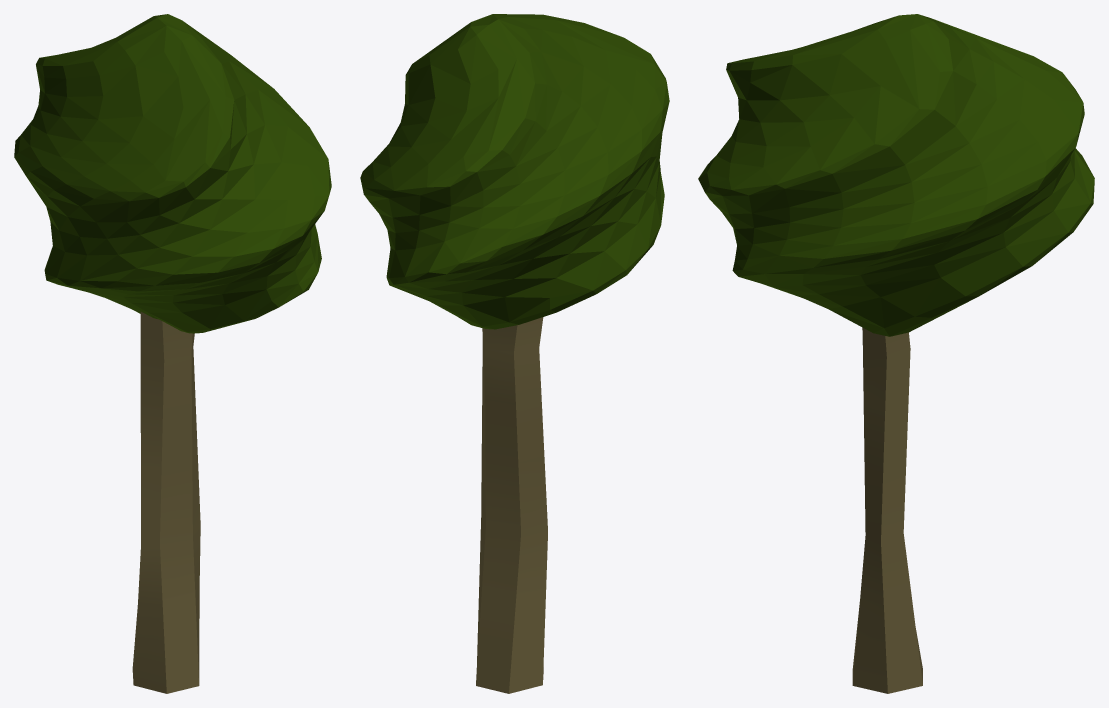
Rendered from tree_4.fbx.
3 views of the same model, side by side, from view 1: azimuth 30°, elevation 25°; view 2: azimuth 150°, elevation 25°; view 3: azimuth 270°, elevation 25° (orthographic). The views are drawn at different scales.
Visible parts, largest first — view 1: pCube8; view 2: pCube8; view 3: pCube8.
Boxes of the visible parts, <box> form: pCube8: <box>14,14,331,693</box>; pCube8: <box>360,14,669,693</box>; pCube8: <box>698,14,1094,693</box>.
Bounding box in the file's own units: 1.72 × 4.43 × 2.39.
